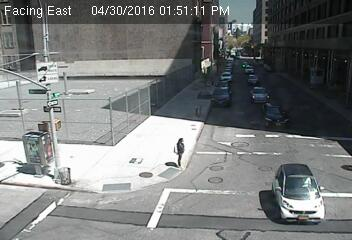neg: (106, 171, 130, 203), (22, 153, 45, 183), (117, 88, 139, 118), (269, 136, 289, 164), (159, 69, 179, 97), (302, 102, 322, 129), (43, 127, 63, 154), (57, 169, 77, 196), (70, 113, 89, 139), (38, 76, 56, 100), (124, 39, 141, 62), (208, 173, 224, 195), (217, 92, 232, 111), (260, 104, 272, 120)
pos: (171, 132, 196, 165)
